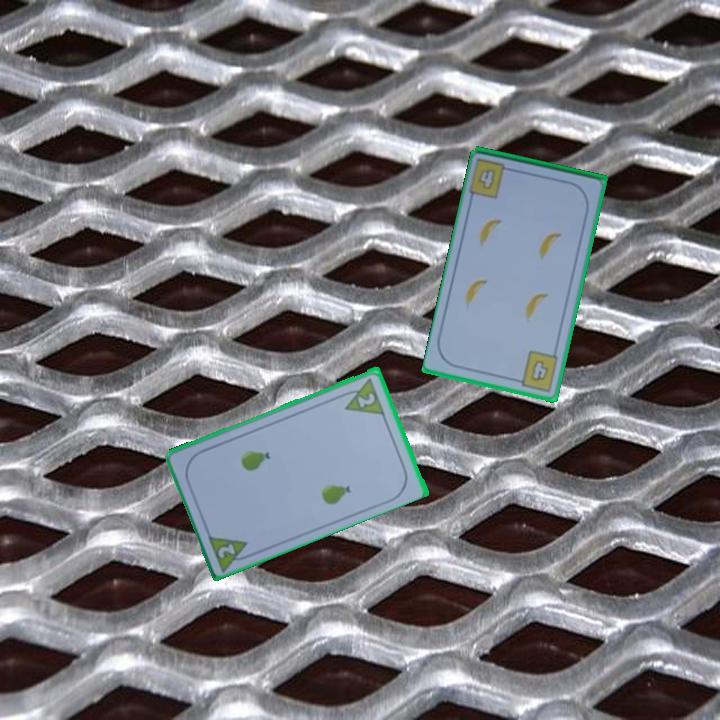2p: (337, 374, 387, 417), (214, 540, 239, 561)
4b: (512, 347, 562, 394), (475, 165, 499, 193)
